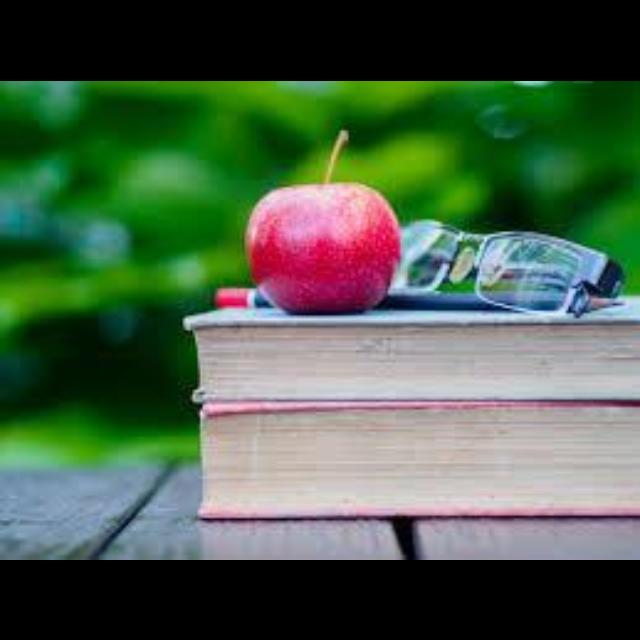apple: (245, 129, 398, 312)
